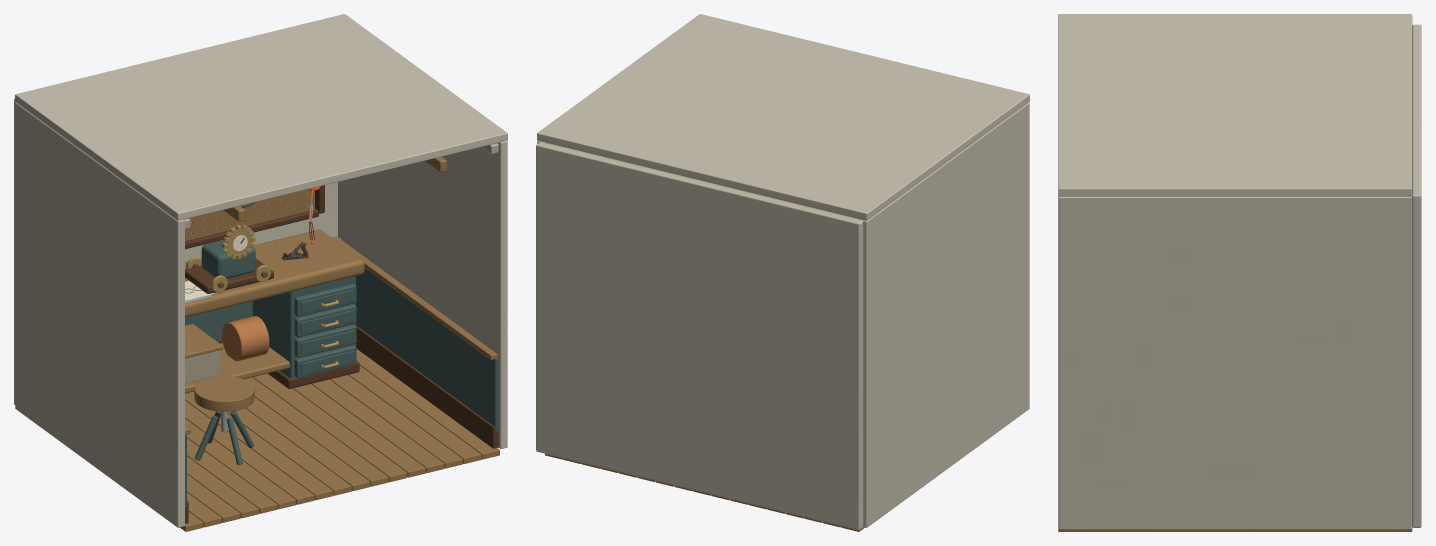
File: workshop.glb
3 views of the same model, side by side, from view 1: azimuth 30°, elevation 25°; view 2: azimuth 150°, elevation 25°; view 3: azimuth 270°, elevation 25° (orthographic). The views are drawn at different scales.
Visible parts, largest first — view 1: Surface_Ivory_linen_plaster, Surface_Warm_oak, Surface_Dusty_blue_paint, Surface_Walnut_joinery, Surface_Copper, Surface_Linen, Surface_Muted_brass, WorkshopGear; view 2: Surface_Ivory_linen_plaster, Surface_Warm_oak; view 3: Surface_Ivory_linen_plaster, Surface_Warm_oak.
Part boxes in pixels (x1,y1,x2,y2): Surface_Ivory_linen_plaster: (14, 14, 507, 527); Surface_Warm_oak: (180, 157, 499, 531); Surface_Dusty_blue_paint: (185, 240, 498, 507); Surface_Walnut_joinery: (185, 185, 498, 523); Surface_Copper: (222, 316, 269, 361); Surface_Linen: (185, 350, 220, 383); Surface_Muted_brass: (186, 257, 338, 368); WorkshopGear: (222, 225, 255, 259); Surface_Ivory_linen_plaster: (536, 14, 1029, 529); Surface_Warm_oak: (545, 453, 864, 531); Surface_Ivory_linen_plaster: (1058, 14, 1421, 529); Surface_Warm_oak: (1058, 529, 1412, 531).
Size of the model in its own units: 3.04 by 2.82 by 2.67.
19 materials, 11 textured.
